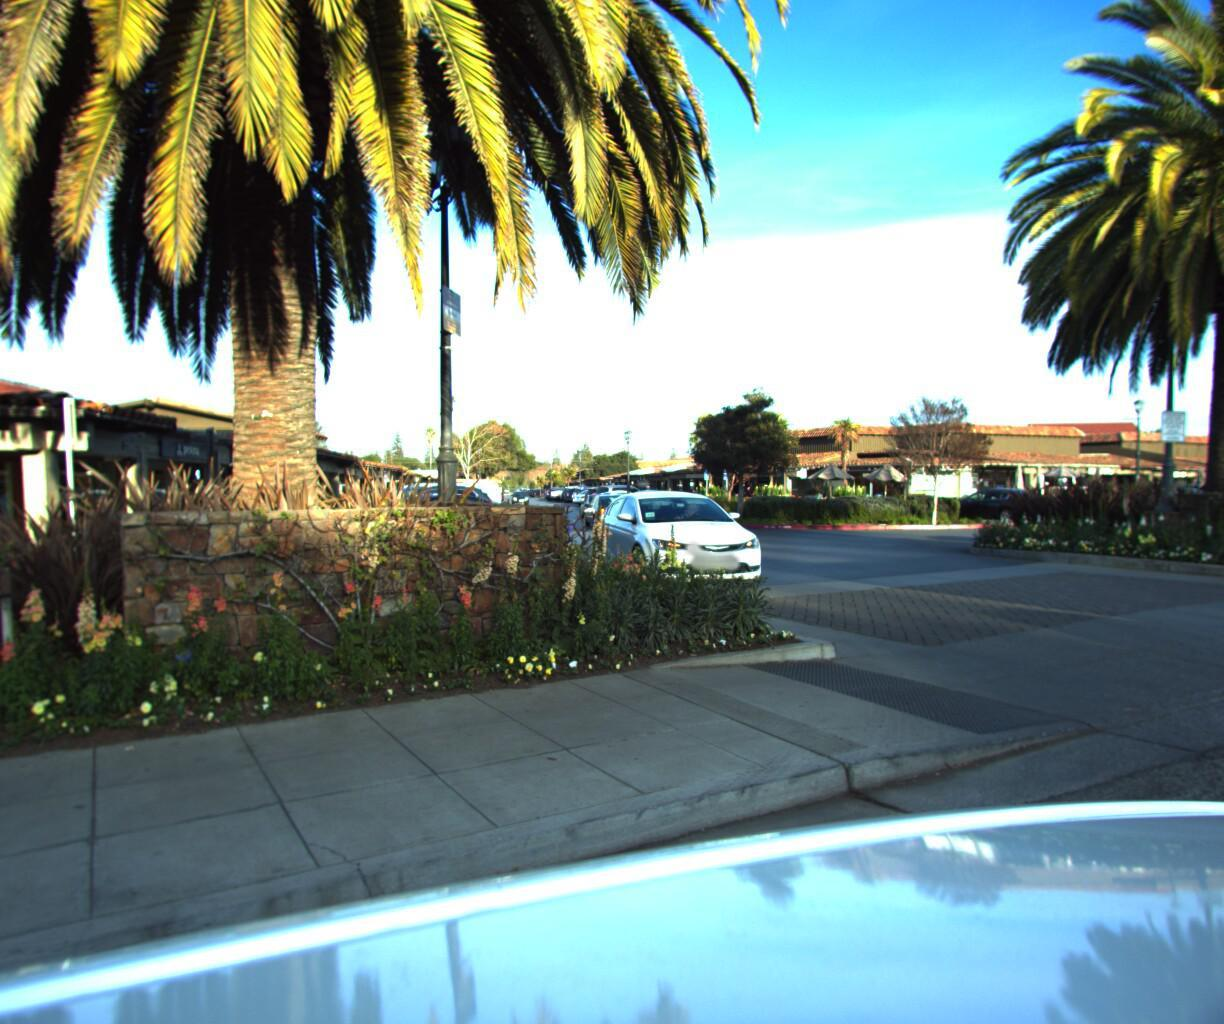car: (577, 485, 790, 601), (314, 487, 527, 563)
